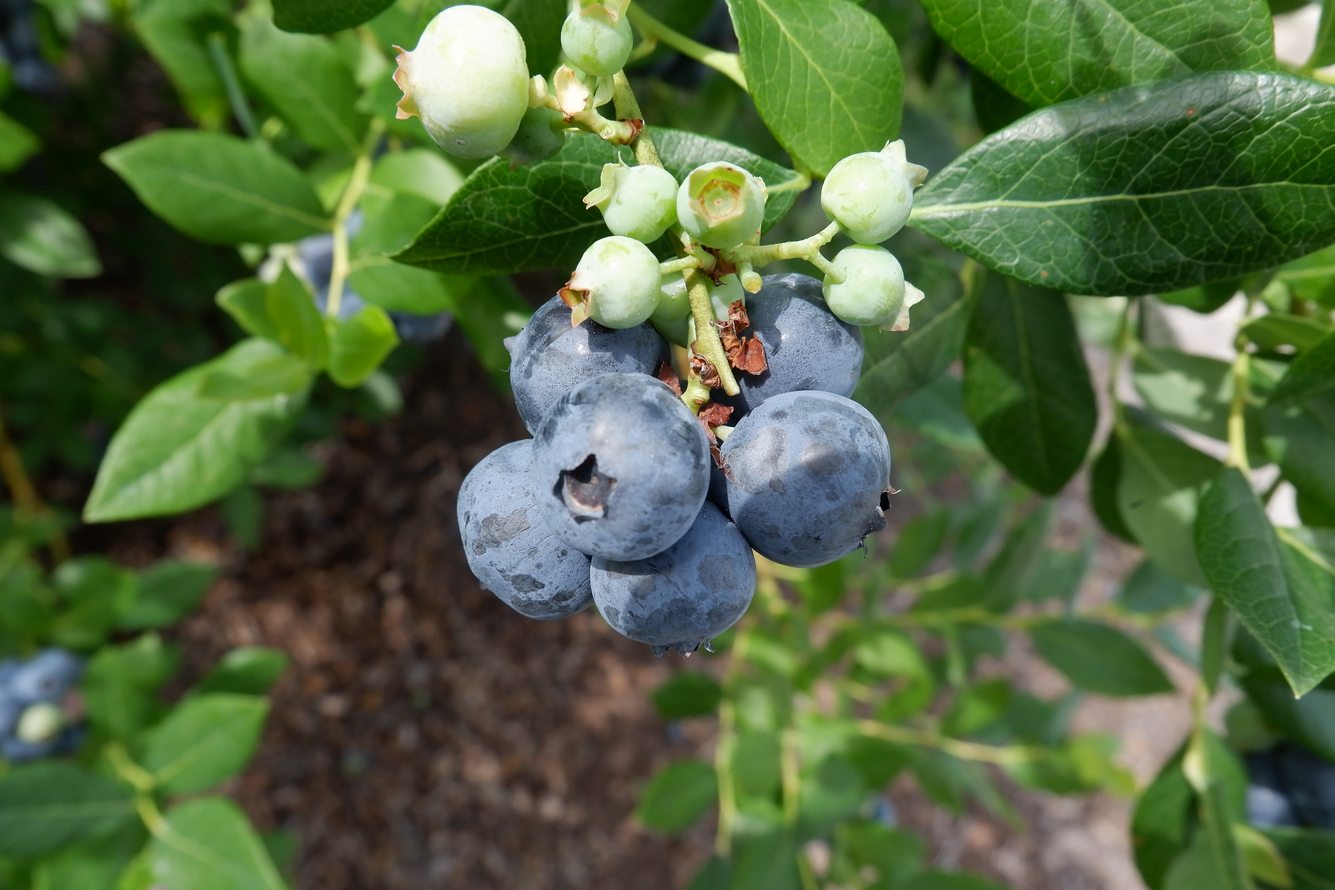Immature: (398, 5, 529, 158), (822, 142, 924, 242), (558, 236, 662, 326), (652, 254, 744, 349), (826, 247, 924, 330), (586, 165, 677, 243), (679, 165, 764, 246), (562, 1, 631, 77), (506, 107, 564, 163)
Mature: (545, 373, 709, 557), (723, 391, 891, 563), (590, 503, 753, 652), (458, 444, 595, 621), (510, 298, 674, 428), (738, 273, 861, 408)
